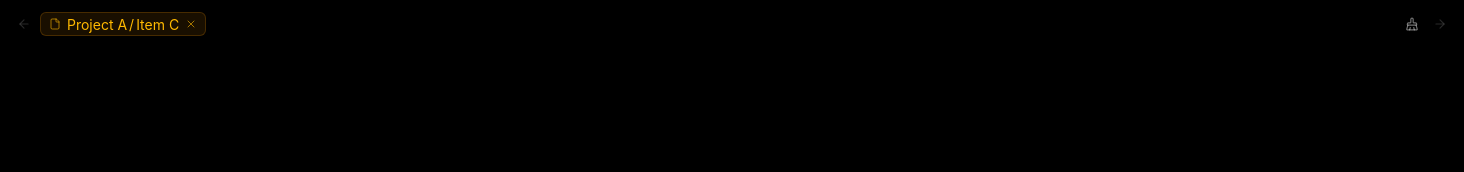
Test case: ProjectRecentItemsTags Component › 悬停详情中的状态徽标只使用预设字号 text-xs
Hover over the element showing "Project A / Item C".
mouse_move(123, 24)  # box [40,12,206,36]
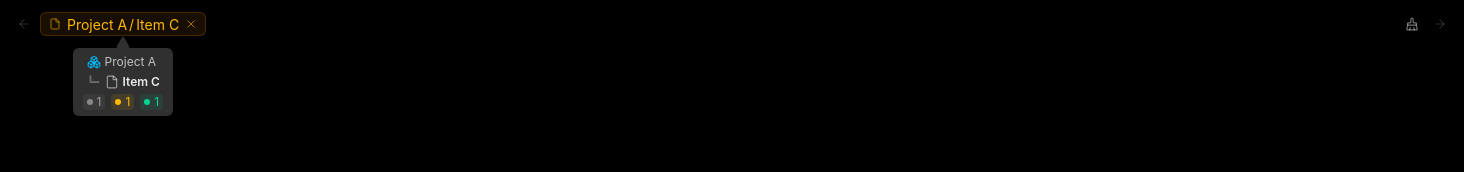
Expected: the tooltip "Project A Item C 1 1 1" is shown, [73,48,173,116]
